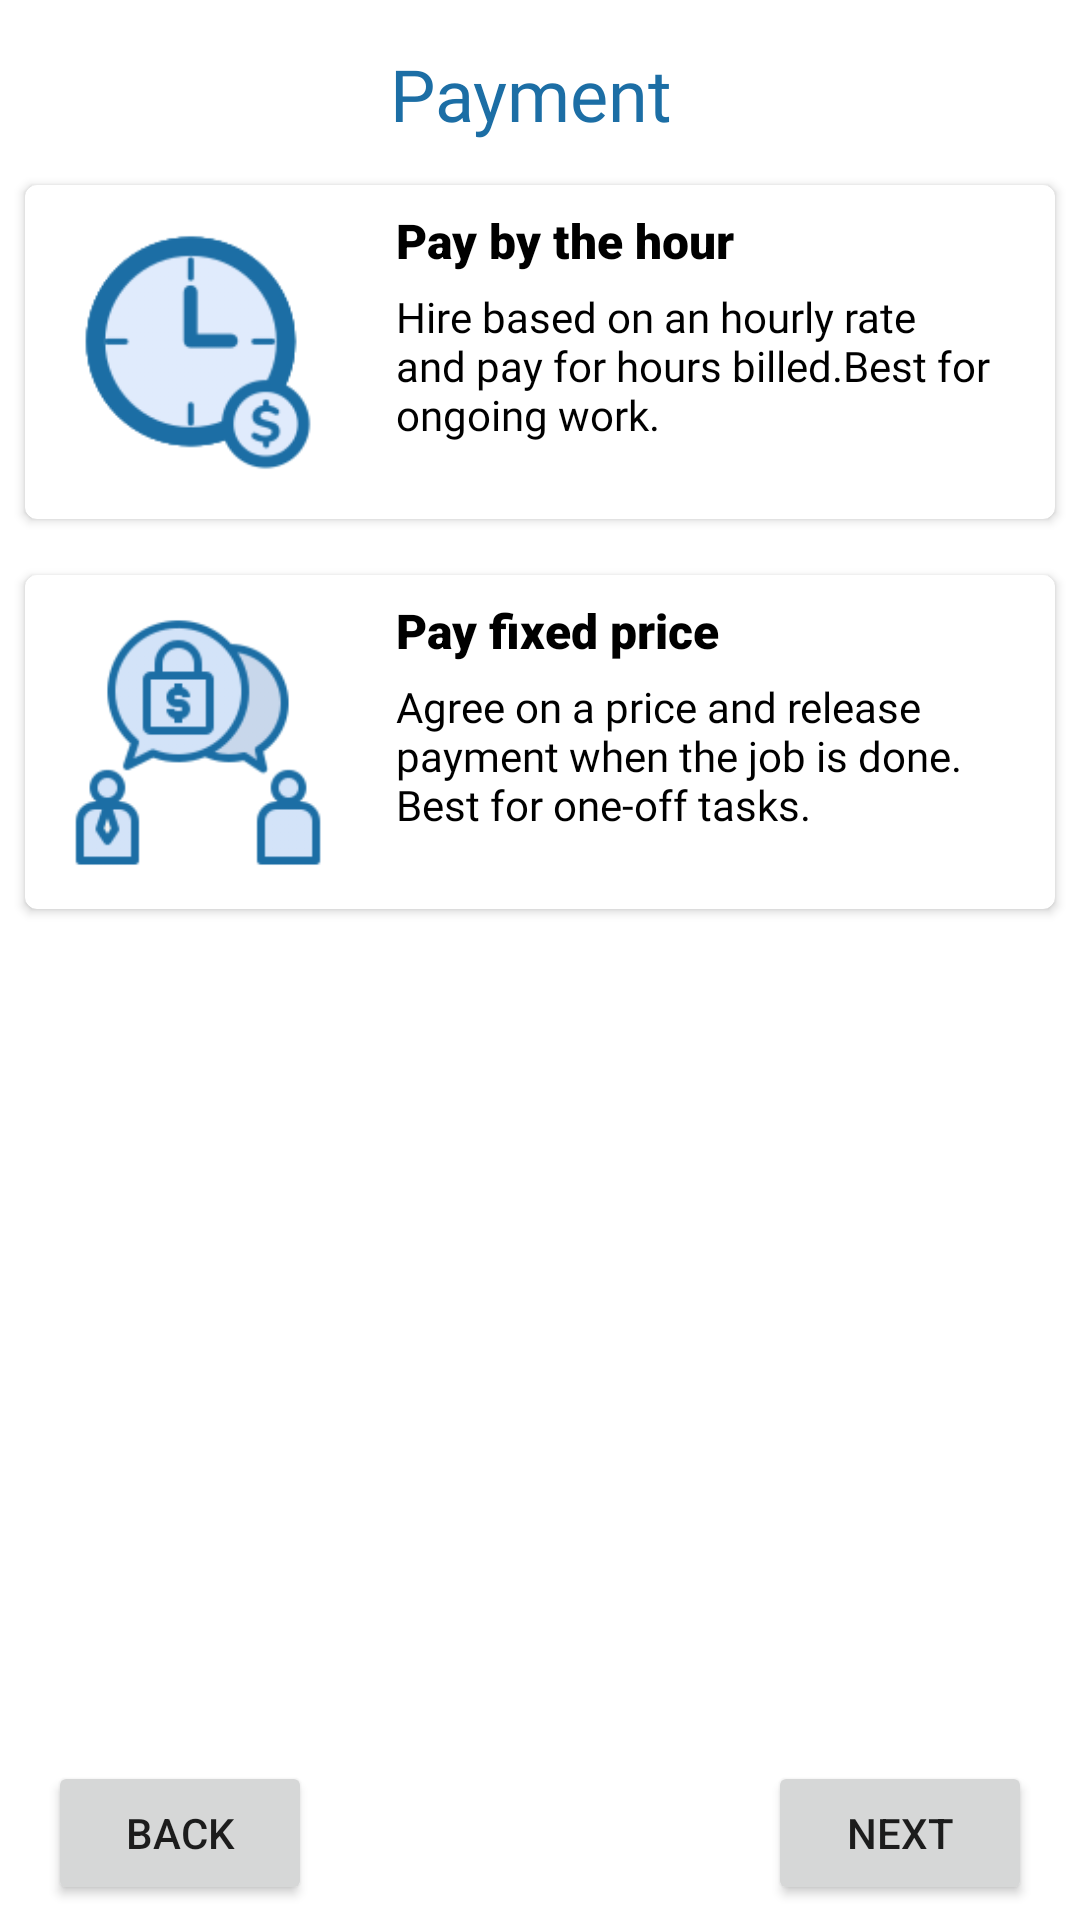

Where to tap for icons on this 1080px×1920px app screen, as point (x, y):
clock: point (198, 352)
